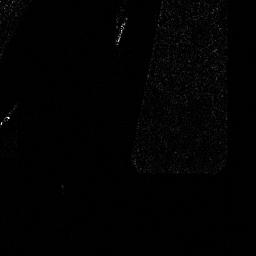ship: (115, 16, 128, 44)
